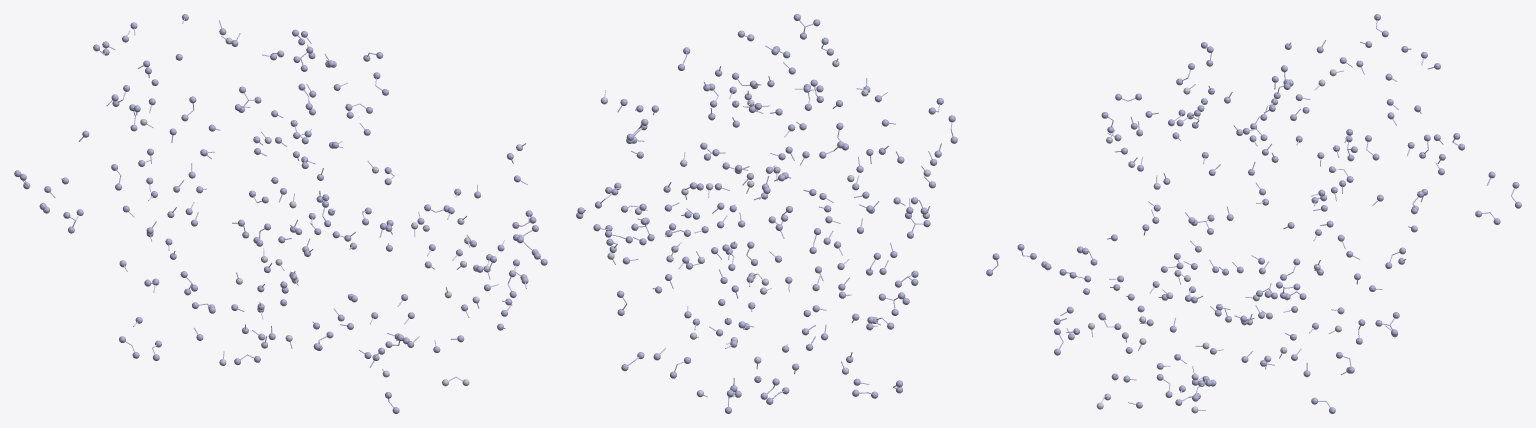
Rendered from 1lyz__ball_and_stick__b-factor__H.glb.
The picture shows the model from 3 angles, left to right: view 1: azimuth 30°, elevation 25°; view 2: azimuth 150°, elevation 25°; view 3: azimuth 270°, elevation 25°; orthographic projection. The views are drawn at different scales.
Visible parts, largest first — view 1: Renderer Node; view 2: Renderer Node; view 3: Renderer Node.
Part boxes in pixels (box(x1,y1,x2,y2)): Renderer Node: box(14, 14, 547, 413); Renderer Node: box(576, 14, 957, 413); Renderer Node: box(986, 14, 1521, 413).
Size of the model in its own units: 38.43 by 31.65 by 46.05.
